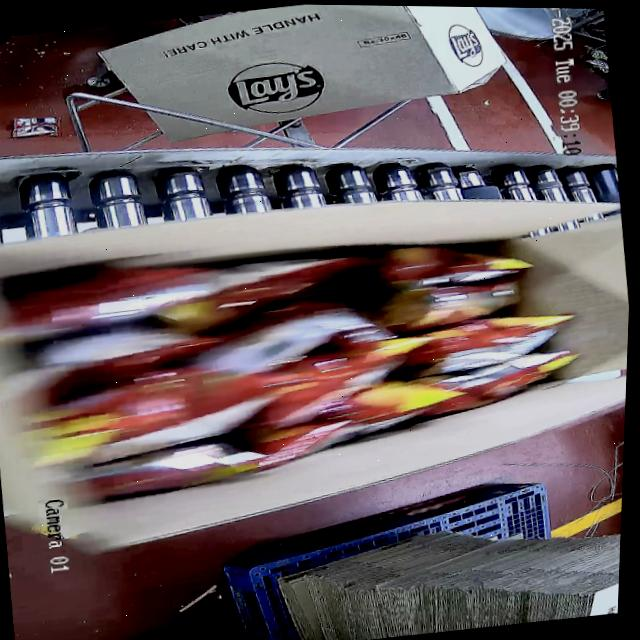MASALA: (0, 214, 598, 520)
